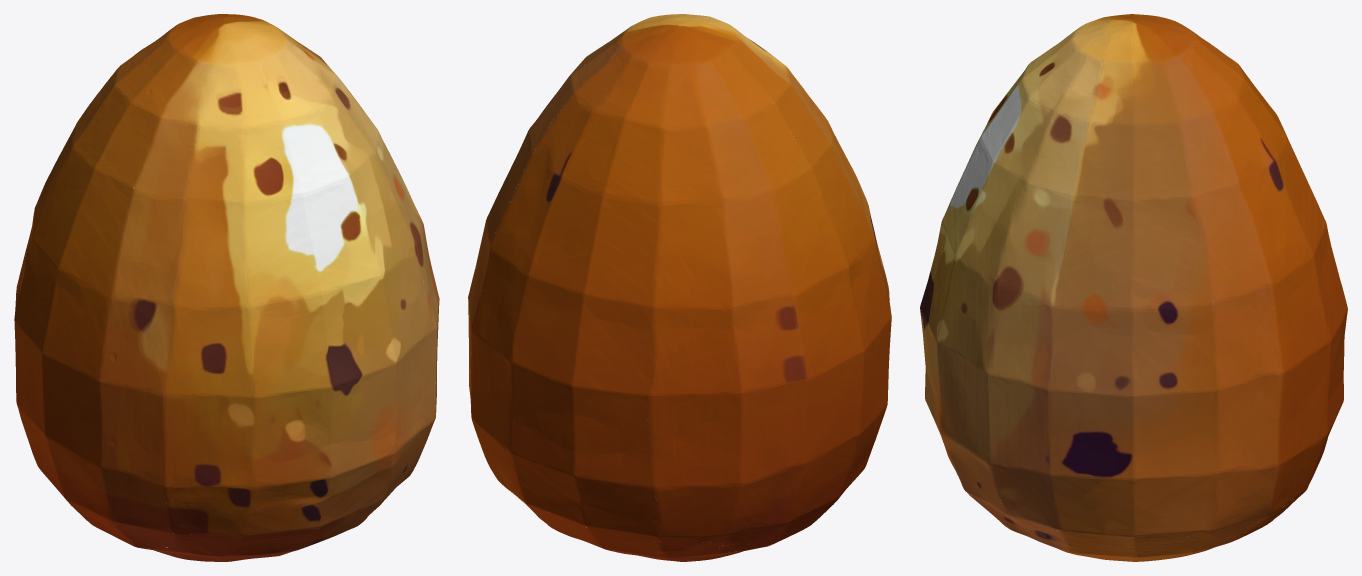
File: egg.glb
The picture shows the model from 3 angles, left to right: view 1: azimuth 30°, elevation 25°; view 2: azimuth 150°, elevation 25°; view 3: azimuth 270°, elevation 25°; orthographic projection.
Parts seen in each view (by area): view 1: tmp_bbtbrr8.ply; view 2: tmp_bbtbrr8.ply; view 3: tmp_bbtbrr8.ply.
Boxes of the visible parts, <box> form: tmp_bbtbrr8.ply: <box>14,14,439,561</box>; tmp_bbtbrr8.ply: <box>468,14,891,561</box>; tmp_bbtbrr8.ply: <box>920,14,1347,561</box>.
Size of the model in its own units: 1.54 by 1.99 by 1.55.
1 material, 1 textured.
